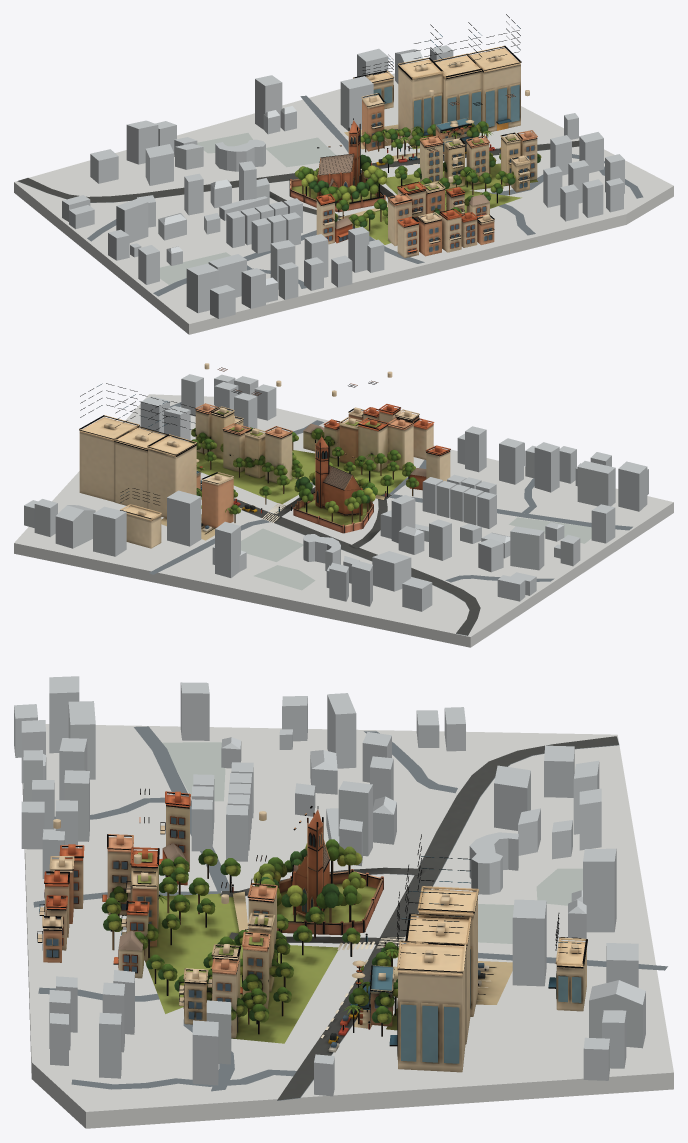
The model's file is landmark.glb.
3 renders of one model, top to bottom at view 1: azimuth 30°, elevation 25°; view 2: azimuth 150°, elevation 25°; view 3: azimuth 270°, elevation 25°, orthographic. The views are drawn at different scales.
Parts seen in each view (by area): view 1: Authored synagogue and grounds, Island with observed cut corner, N15 Office beside approach, S01 Southwest edge block, G02 Northern open ground, N07 Curved garden villa, W03 West large residence, N02 Rear tall apartment, N08 Tall northern tower, N04 Large roadside peach residence, S02 Southwest long apartment, S04 Foreground peach home (+30 smaller); view 2: Authored synagogue and grounds, Island with observed cut corner, N15 Office beside approach, S02 Southwest long apartment, N11 Rear office tower, W03 West large residence, S01 Southwest edge block, N08 Tall northern tower, N04 Large roadside peach residence, G02 Northern open ground, S07 South blue office, N12 Terracotta long roof (+30 smaller); view 3: Island with observed cut corner, Authored synagogue and grounds, N15 Office beside approach, N08 Tall northern tower, N07 Curved garden villa, G03 Western recreation ground, N04 Large roadside peach residence, W03 West large residence, W14 West edge apartment, E08 East edge long home, S01 Southwest edge block, W07 Large courtyard house (+41 smaller).
Part boxes in pixels (bbox=[...]): Authored synagogue and grounds: bbox=[18, 14, 579, 258]; Island with observed cut corner: bbox=[14, 73, 673, 334]; N15 Office beside approach: bbox=[340, 76, 373, 131]; S01 Southwest edge block: bbox=[186, 263, 218, 313]; G02 Northern open ground: bbox=[266, 137, 335, 167]; N07 Curved garden villa: bbox=[215, 139, 265, 171]; W03 West large residence: bbox=[116, 198, 148, 242]; N02 Rear tall apartment: bbox=[126, 120, 158, 164]; N08 Tall northern tower: bbox=[255, 75, 282, 129]; N04 Large roadside peach residence: bbox=[145, 144, 173, 185]; S02 Southwest long apartment: bbox=[208, 254, 246, 297]; S04 Foreground peach home: bbox=[241, 268, 265, 308]; Authored synagogue and grounds: bbox=[79, 363, 480, 635]; Island with observed cut corner: bbox=[14, 394, 673, 647]; N15 Office beside approach: bbox=[167, 490, 201, 546]; S02 Southwest long apartment: bbox=[577, 461, 615, 506]; N11 Rear office tower: bbox=[93, 506, 126, 556]; W03 West large residence: bbox=[510, 526, 544, 570]; S01 Southwest edge block: bbox=[618, 461, 647, 511]; N08 Tall northern tower: bbox=[215, 521, 240, 577]; N04 Large roadside peach residence: bbox=[372, 551, 411, 591]; G02 Northern open ground: bbox=[241, 528, 303, 561]; S07 South blue office: bbox=[534, 442, 559, 492]; N12 Terracotta long roof: bbox=[55, 510, 95, 548]; Island with observed cut corner: bbox=[22, 724, 673, 1128]; Authored synagogue and grounds: bbox=[37, 736, 618, 1100]; N15 Office beside approach: bbox=[512, 899, 546, 986]; N08 Tall northern tower: bbox=[583, 848, 616, 932]; N07 Curved garden villa: bbox=[469, 832, 518, 894]; G03 Western recreation ground: bbox=[162, 742, 225, 801]; N04 Large roadside peach residence: bbox=[494, 765, 530, 830]; W03 West large residence: bbox=[327, 693, 356, 768]; W14 West edge apartment: bbox=[180, 682, 209, 740]; E08 East edge long home: bbox=[192, 1020, 218, 1085]; S01 Southwest edge block: bbox=[49, 676, 79, 753]; W07 Large courtyard house: bbox=[338, 781, 372, 856].
Size of the model in its own units: 57.02 by 12.09 by 40.94.
Materials: 5 (1 with a texture image).
